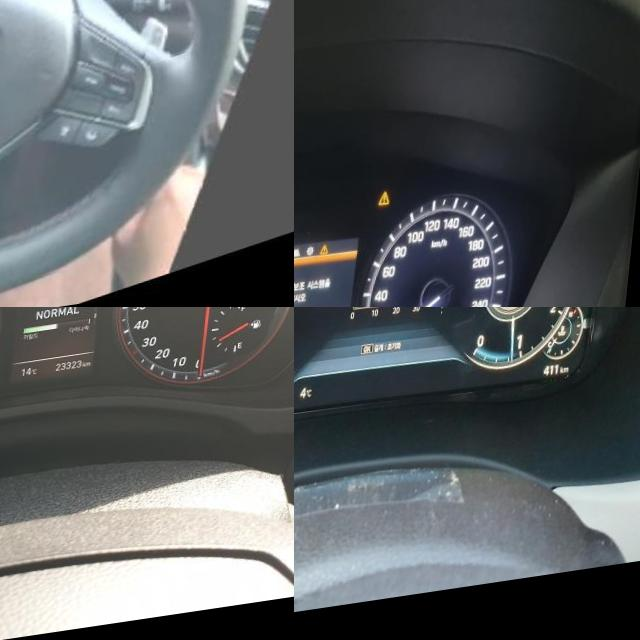Central Warning lamp: (383, 201, 395, 218)
